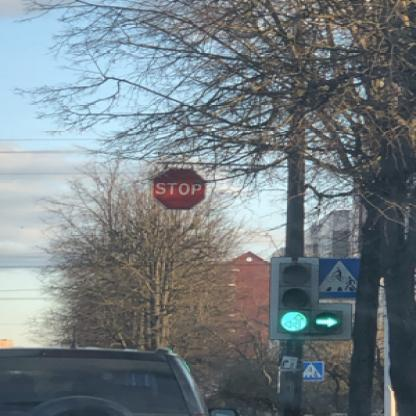Green Light: (271, 254, 318, 339)
Stop: (155, 166, 207, 212)
